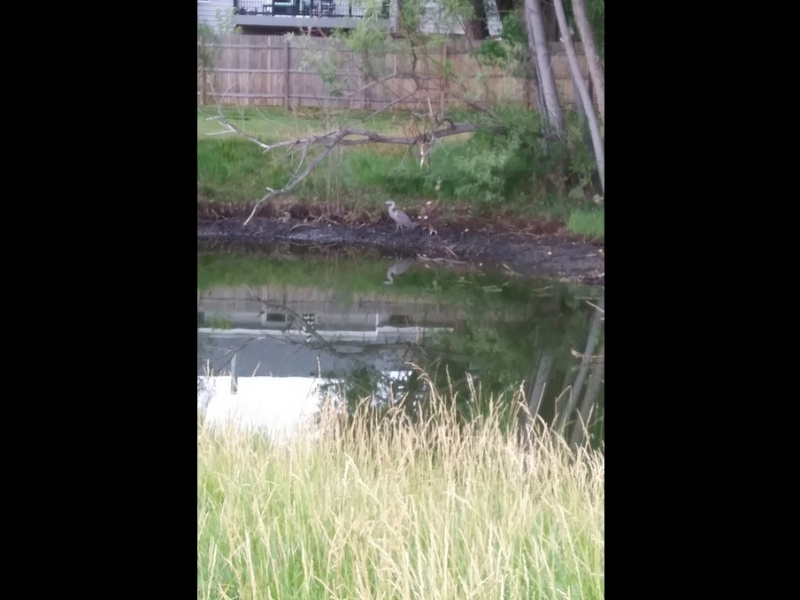heron: (384, 198, 414, 239)
